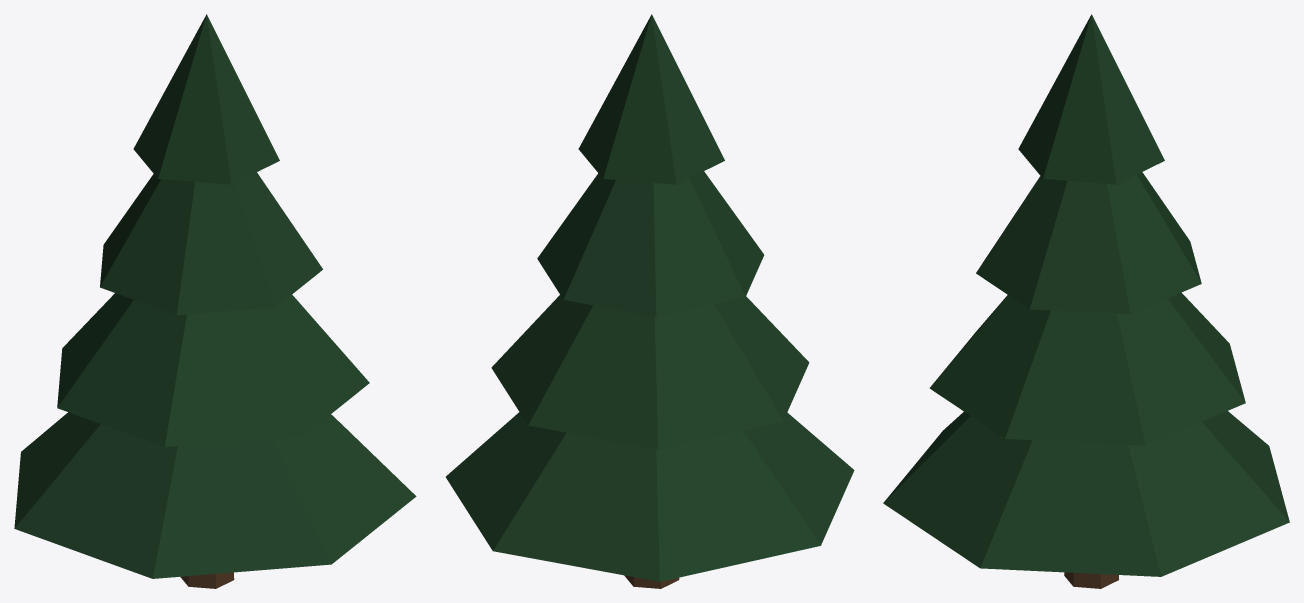
The model's file is pino_pequeno.glb.
3 renders of one model, left to right at view 1: azimuth 30°, elevation 25°; view 2: azimuth 150°, elevation 25°; view 3: azimuth 270°, elevation 25°, orthographic.
Visible parts, largest first — view 1: Pine_20; view 2: Pine_20; view 3: Pine_20.
Boxes of the visible parts, x1,y1,x2,y2 form: Pine_20: (14,14,416,588); Pine_20: (446,14,854,588); Pine_20: (883,14,1289,588).
Size of the model in its own units: 2.62 by 4 by 2.62.
